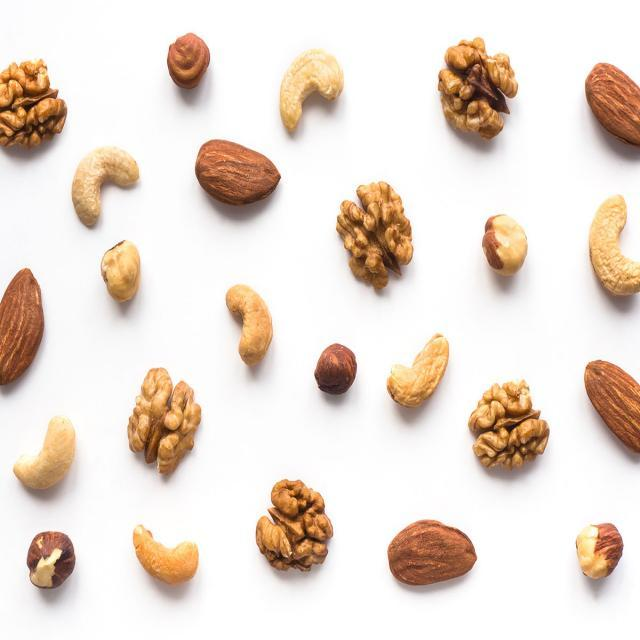Frutta secca: (336, 179, 418, 288), (127, 367, 201, 482), (438, 38, 518, 142), (465, 376, 551, 470), (255, 479, 335, 573), (191, 138, 281, 212), (387, 520, 479, 587), (1, 59, 67, 152), (276, 48, 348, 131), (70, 145, 142, 227), (584, 362, 640, 462), (1, 267, 45, 385), (589, 194, 639, 296), (585, 61, 640, 153), (15, 415, 77, 496), (385, 331, 453, 404), (224, 283, 281, 368), (133, 521, 199, 585), (480, 210, 531, 284), (96, 236, 144, 310), (312, 342, 363, 399), (28, 529, 76, 589), (576, 524, 624, 581), (163, 33, 211, 87)
